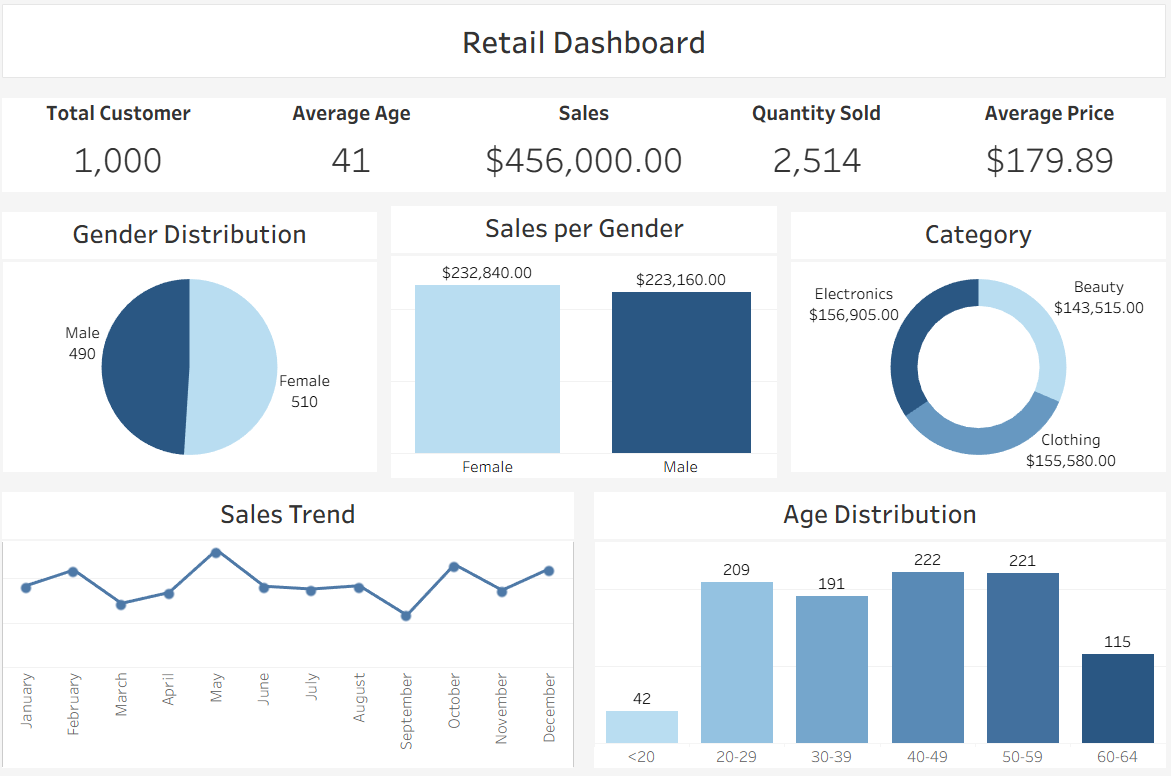

The dashboard page shown, as its layout file describes it:
{"tool":"tableau","page":{"name":"Retail Dashboard","canvas":[1200,800],"ordinal":0},"visuals":[{"type":"title","box":[8,8,1184,94]},{"type":"worksheet","title":"KPI","mark":"Automatic","box":[8,102,1184,114]},{"type":"worksheet","title":"Gender","mark":"Pie","rows":["Calculation_507780912340619264"],"box":[8,216,394.6,280]},{"type":"worksheet","title":"Sales per Gender","mark":"Bar","rows":["Total Amount"],"cols":["Gender"],"box":[402.6,216,394.7,280]},{"type":"worksheet","title":"Category","mark":"Pie","rows":["Calculation_507780912340619264","Calculation_507780912340619264"],"box":[797.3,216,394.7,280]},{"type":"worksheet","title":"Line Chart","mark":"Automatic","rows":["Total Amount","Total Amount"],"cols":["Date"],"box":[8,496,592,296]},{"type":"worksheet","title":"Age","mark":"Automatic","rows":["Customer ID"],"cols":["Calculation_507780912351444994"],"box":[600,496,592,296]}]}

Visuals, with their boxes in screenshot pixels (x1, y1, x2, y2), scaled from the page's 1200x800 canvas onto the 1171x776 screenshot:
title: pyautogui.locateOnScreen(8, 8, 1163, 99)
"KPI" worksheet: pyautogui.locateOnScreen(8, 99, 1163, 210)
"Gender" worksheet (Pie marks): pyautogui.locateOnScreen(8, 210, 393, 481)
"Sales per Gender" worksheet (Bar marks): pyautogui.locateOnScreen(393, 210, 778, 481)
"Category" worksheet (Pie marks): pyautogui.locateOnScreen(778, 210, 1163, 481)
"Line Chart" worksheet: pyautogui.locateOnScreen(8, 481, 586, 768)
"Age" worksheet: pyautogui.locateOnScreen(586, 481, 1163, 768)
